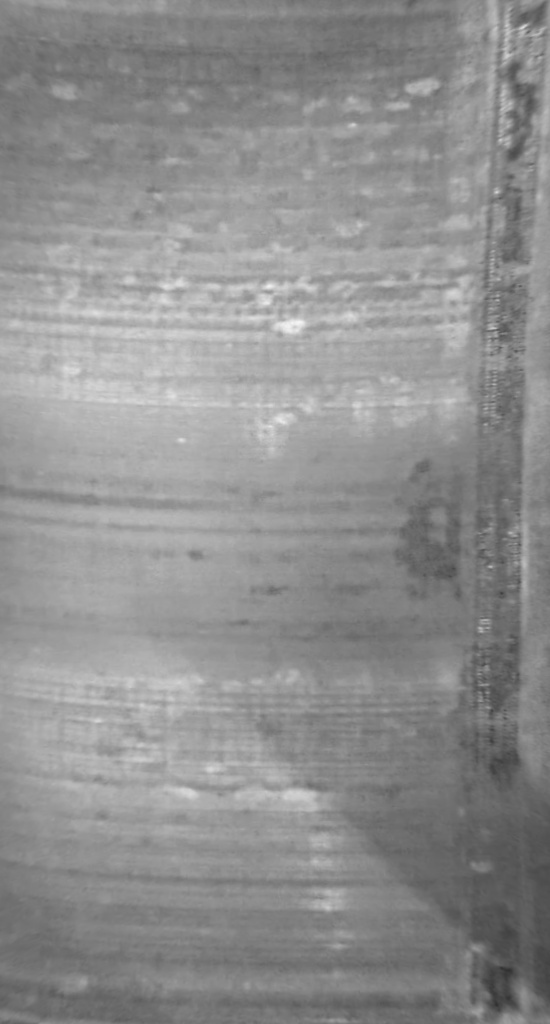splice: (461, 1, 548, 1023)
